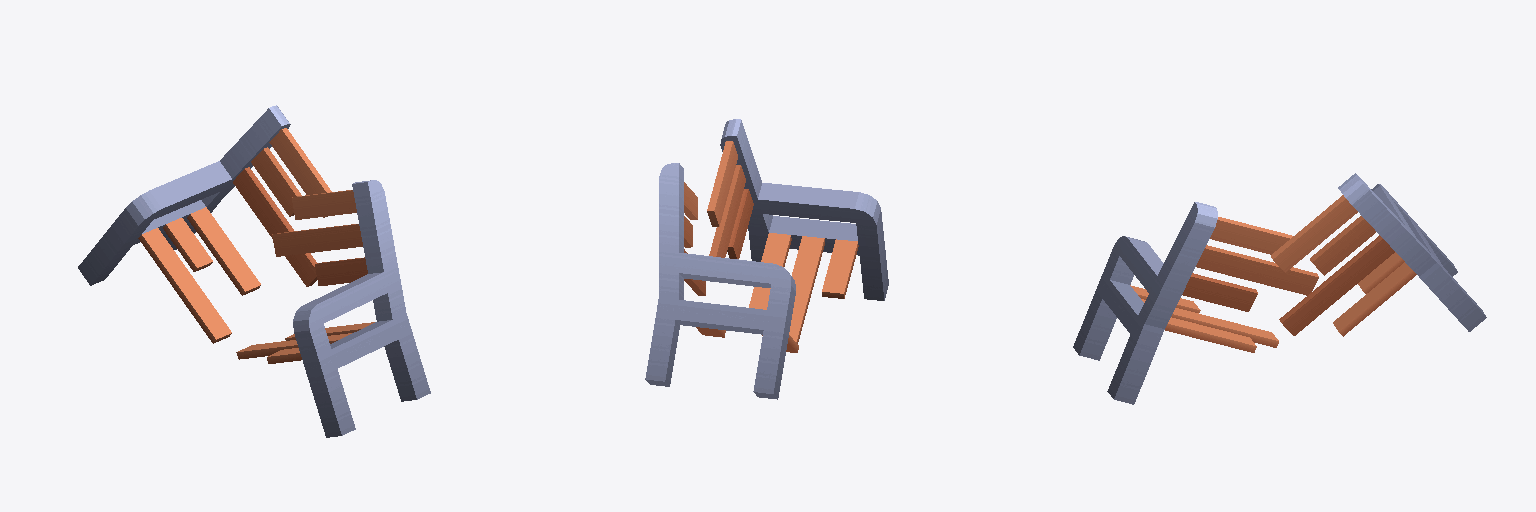
3 renders of one model, left to right at view 1: azimuth 30°, elevation 25°; view 2: azimuth 150°, elevation 25°; view 3: azimuth 270°, elevation 25°, orthographic.
Visible parts, largest first — view 1: Bench_4; view 2: Bench_4; view 3: Bench_4.
Part boxes in pixels (x1,y1,x2,y2): Bench_4: (78, 105, 430, 437); Bench_4: (645, 119, 888, 399); Bench_4: (1073, 173, 1486, 404).
Bounding box in the file's own units: 0.5221 × 0.5855 × 1.02.
1 materials, 1 textured.